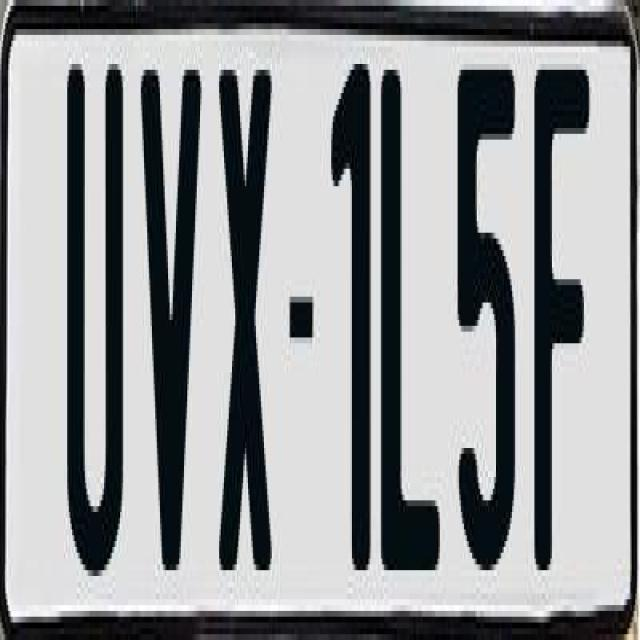1: (326, 46, 374, 588)
5: (458, 63, 516, 600)
F: (533, 58, 597, 582)
L: (378, 64, 442, 588)
U: (62, 63, 128, 600)
V: (139, 64, 208, 570)
X: (219, 58, 282, 594)
